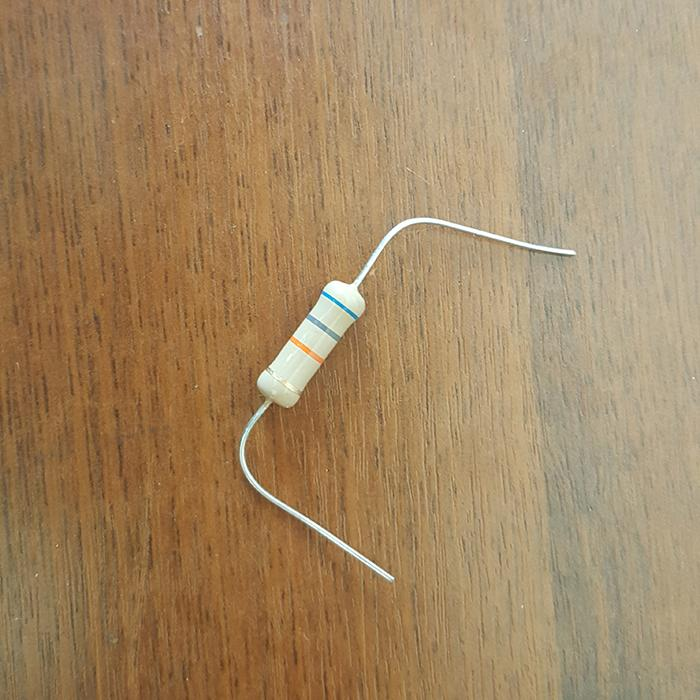resistor: (257, 280, 364, 407)
